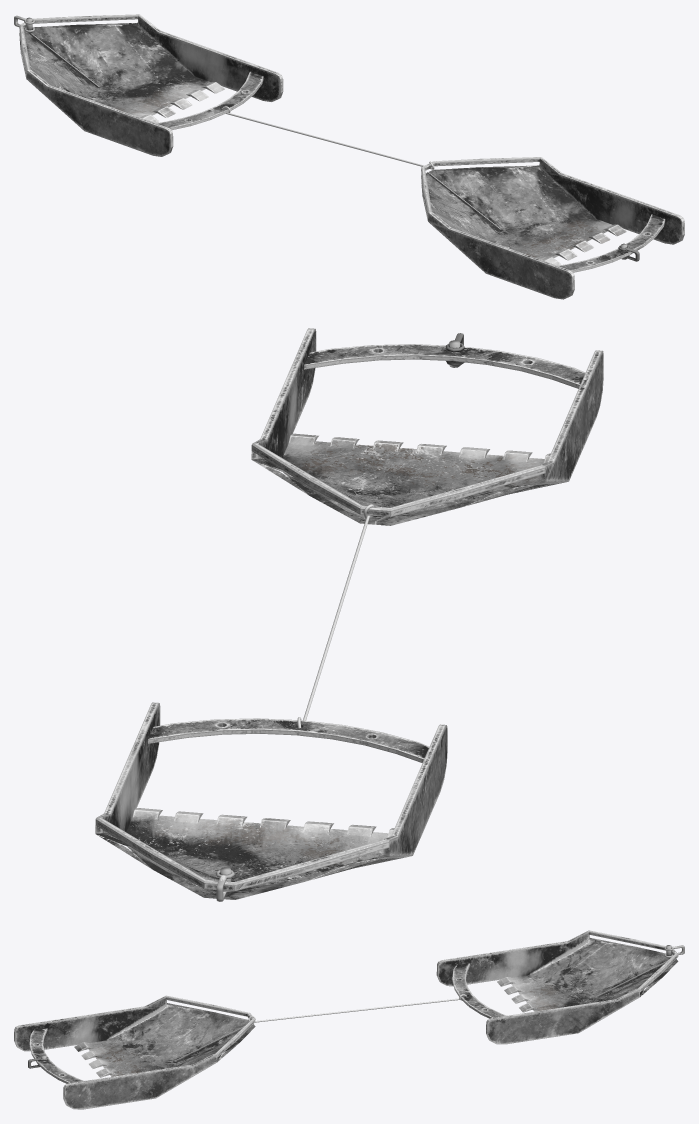
The model's file is Chain cable link.fbx.
3 renders of one model, top to bottom at view 1: azimuth 30°, elevation 25°; view 2: azimuth 150°, elevation 25°; view 3: azimuth 270°, elevation 25°, orthographic. The views are drawn at different scales.
Parts seen in each view (by area): view 1: Scraper.001, BezierCurve; view 2: Scraper.001, BezierCurve; view 3: Scraper.001, BezierCurve.
Boxes of the visible parts, x1,y1,x2,y2 form: Scraper.001: [14, 14, 684, 299]; BezierCurve: [221, 106, 434, 170]; Scraper.001: [95, 328, 603, 901]; BezierCurve: [297, 504, 373, 728]; Scraper.001: [14, 930, 684, 1109]; BezierCurve: [248, 994, 466, 1022].
Size of the model in its own units: 220 by 28.29 by 422.
